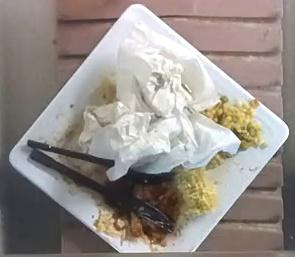corn: (202, 95, 259, 148)
